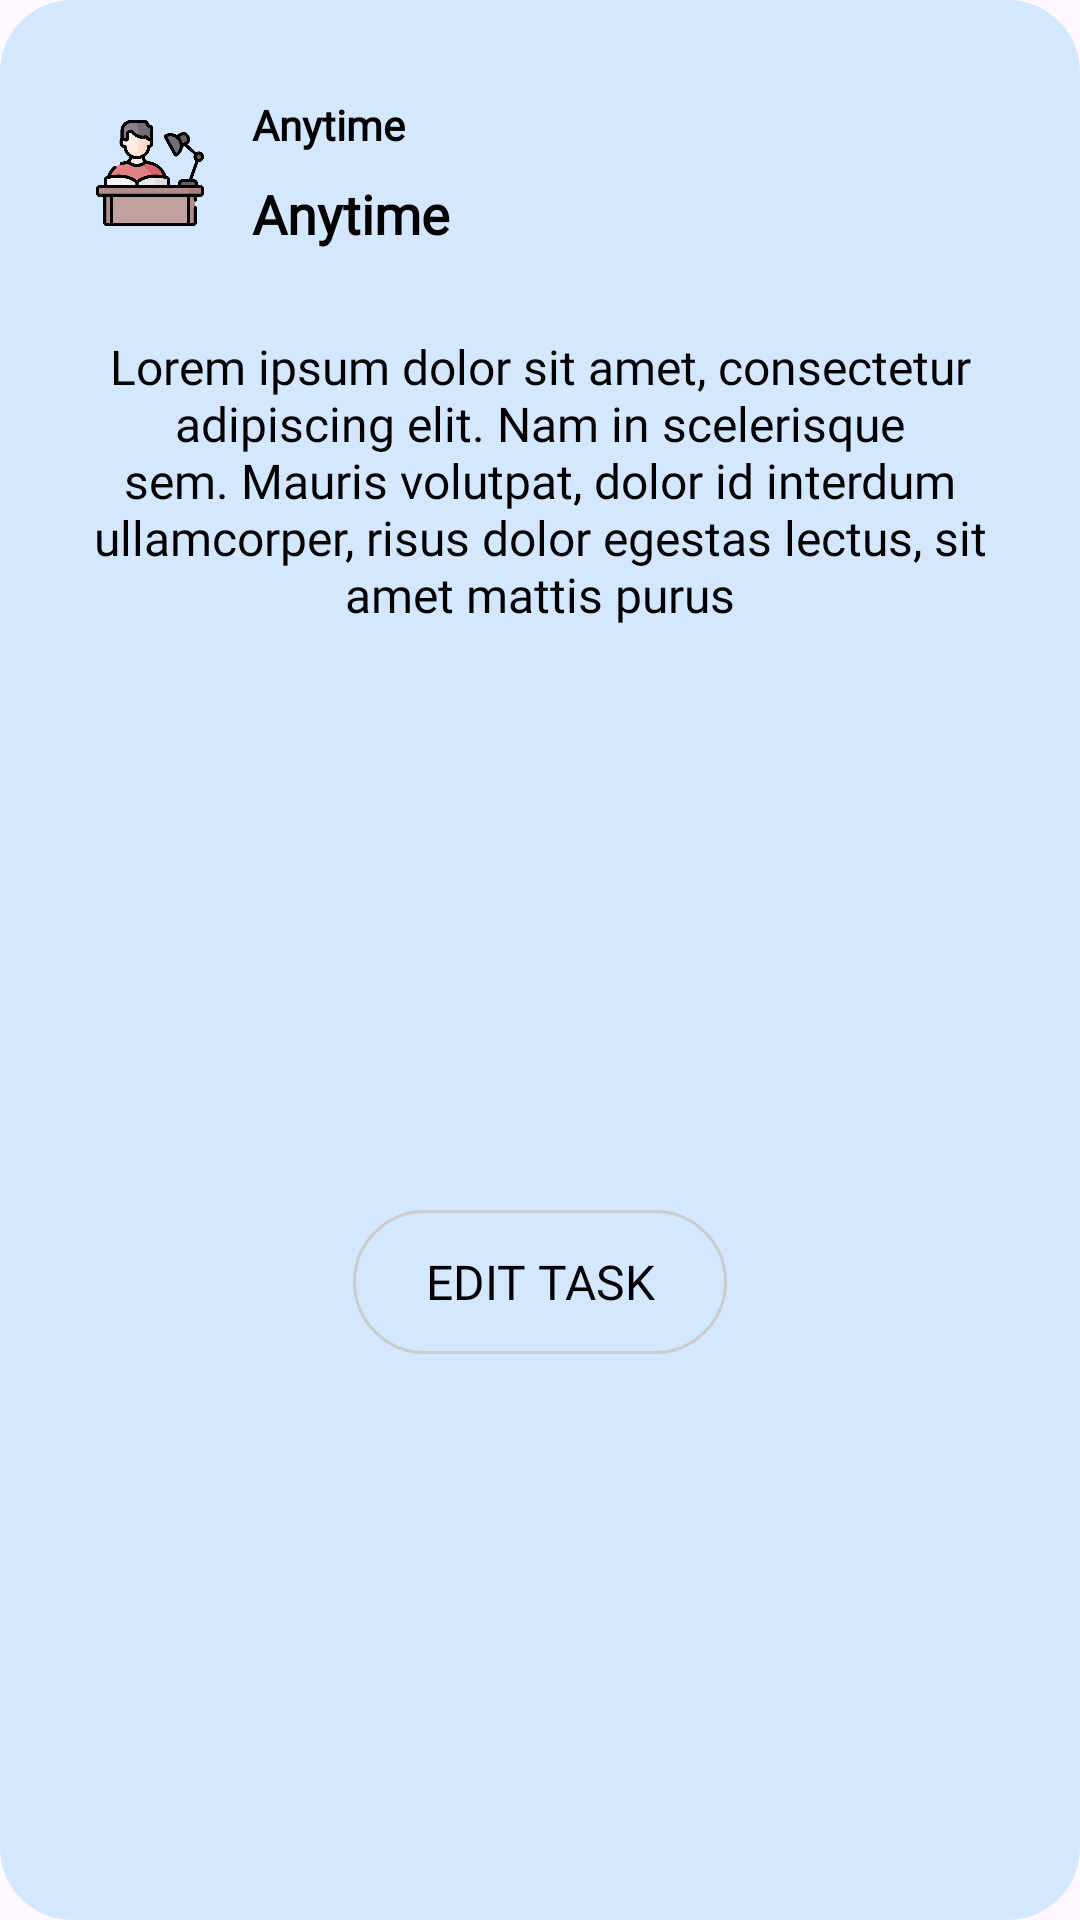

Locate icon controls on the screen. Image size 1080w x 1920h, boxes as (x1, y1, x2, y2).
study: (96, 120, 204, 226)
